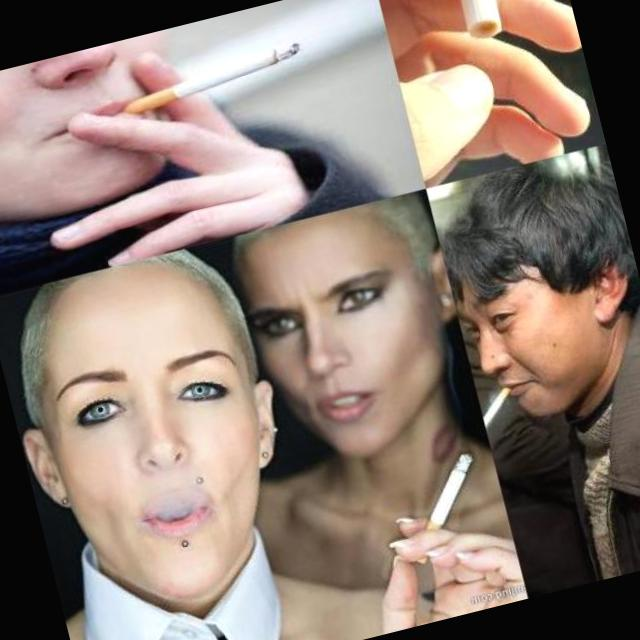smoke: (23, 41, 340, 280), (350, 448, 510, 632), (448, 0, 509, 48), (478, 383, 524, 440)
